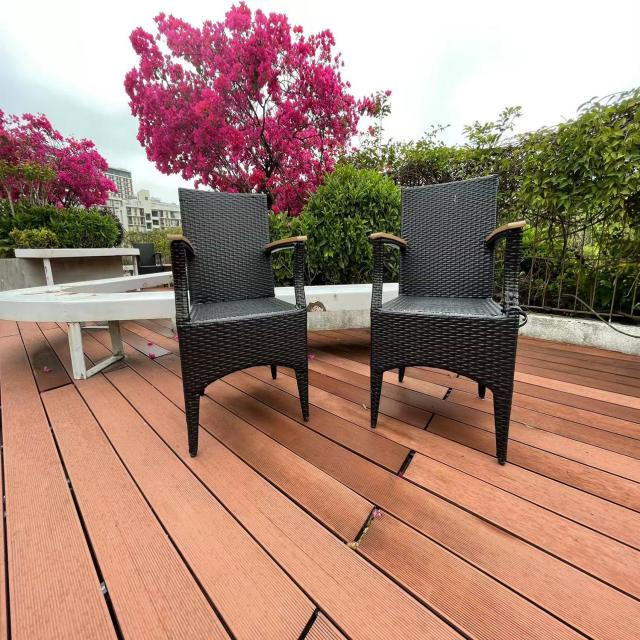chair: (362, 172, 534, 470), (161, 177, 316, 444)
